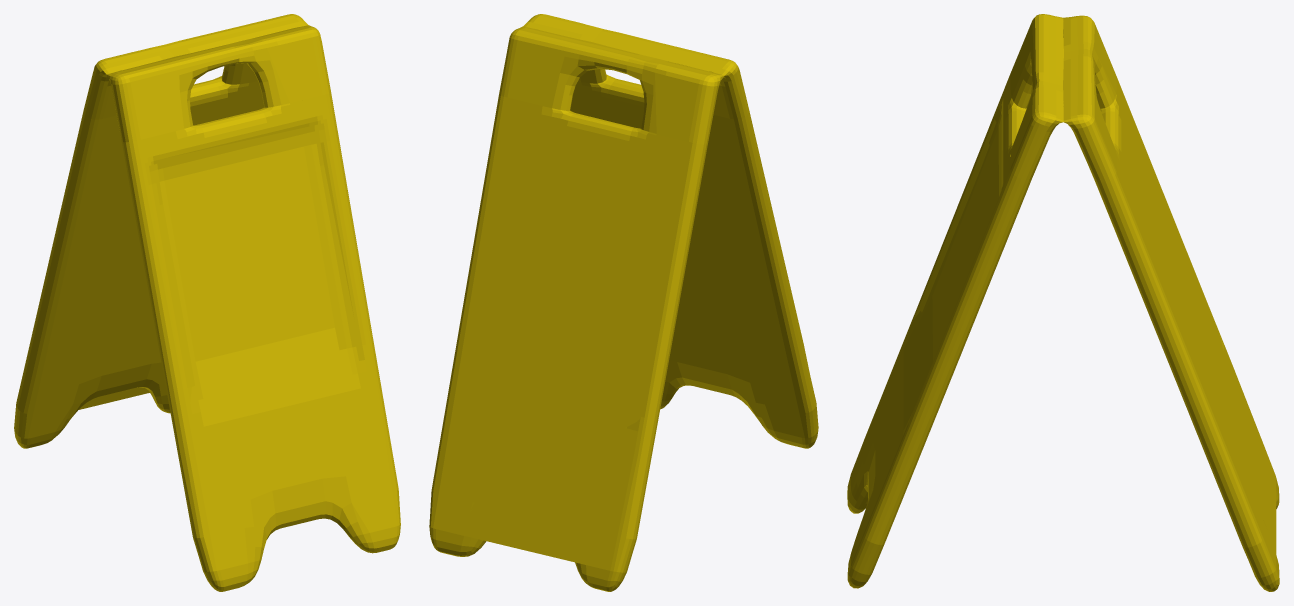
The model's file is AchtunRutschig.fbx.
The picture shows the model from 3 angles, left to right: view 1: azimuth 30°, elevation 25°; view 2: azimuth 150°, elevation 25°; view 3: azimuth 270°, elevation 25°; orthographic projection. The views are drawn at different scales.
Parts seen in each view (by area): view 1: Cube; view 2: Cube; view 3: Cube.
Boxes of the visible parts, x1=… form: Cube: x1=14, y1=14, x2=400, y2=591; Cube: x1=429, y1=14, x2=818, y2=591; Cube: x1=847, y1=14, x2=1279, y2=591.
Size of the model in its own units: 178 by 372 by 301.
